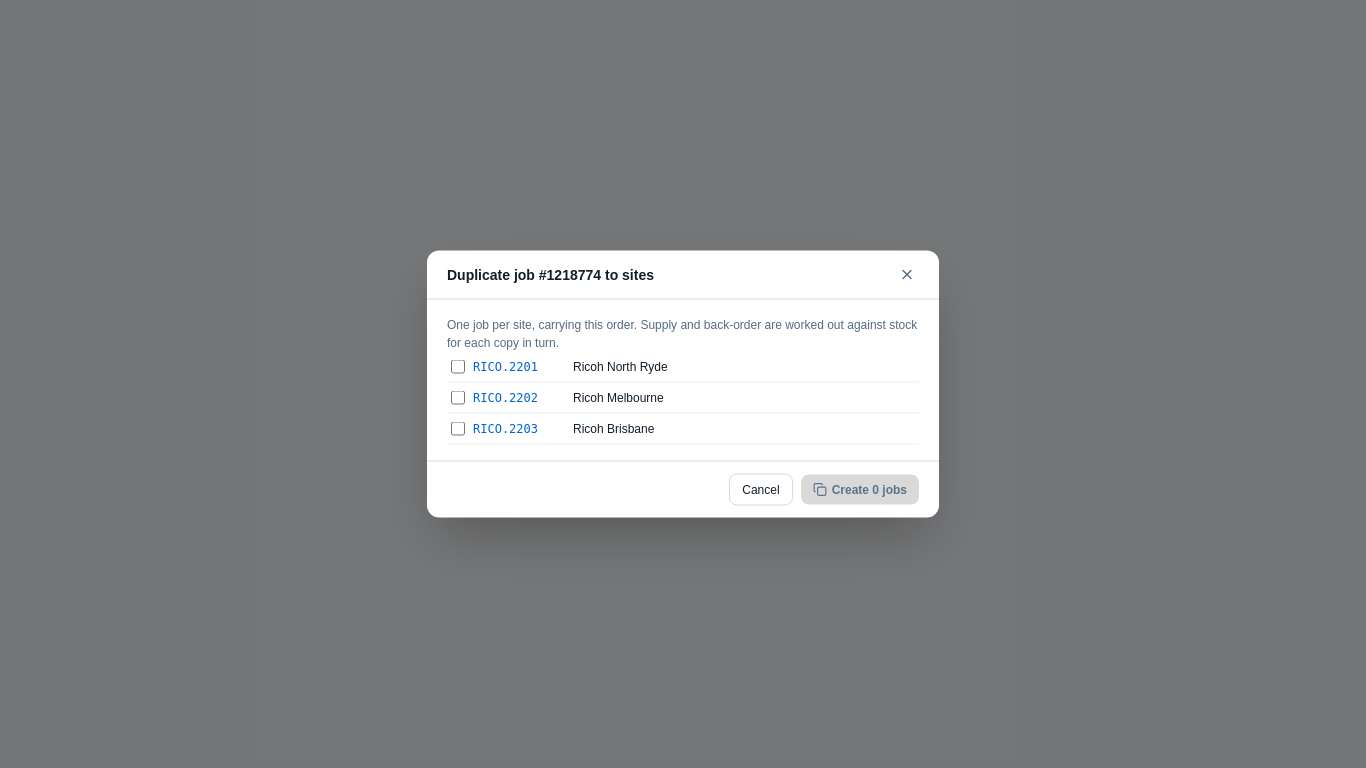
it: one site failing does not stop the rest
The width and height of the screenshot is (1366, 768).
Check: the text "RICO.2201" is shown, box top-left (473, 360), bottom-right (538, 374)
Click the checkbox labelled "RICO.2201 Ricoh North Ryde" at (458, 366), box top-left (451, 360), bottom-right (465, 374)
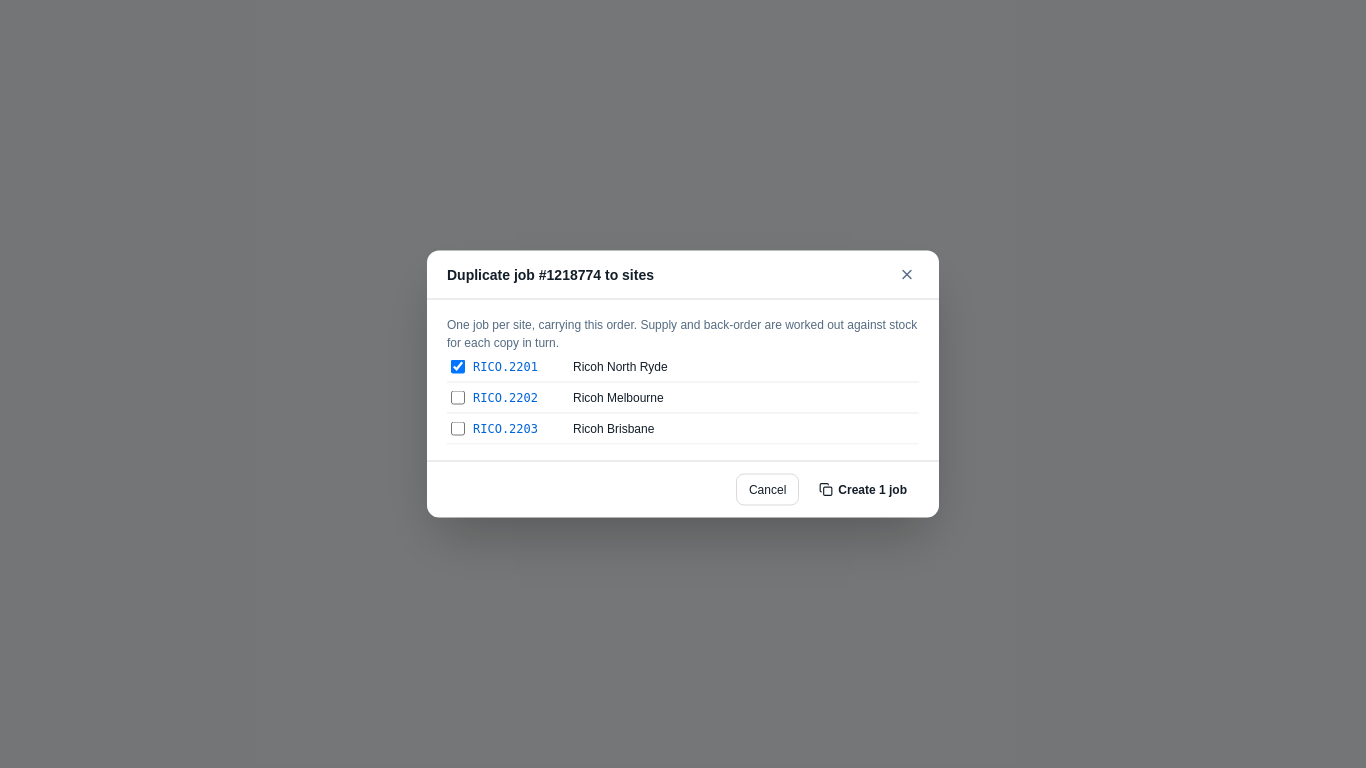
Click the checkbox labelled "RICO.2202 Ricoh Melbourne" at (458, 398), box top-left (451, 390), bottom-right (465, 404)
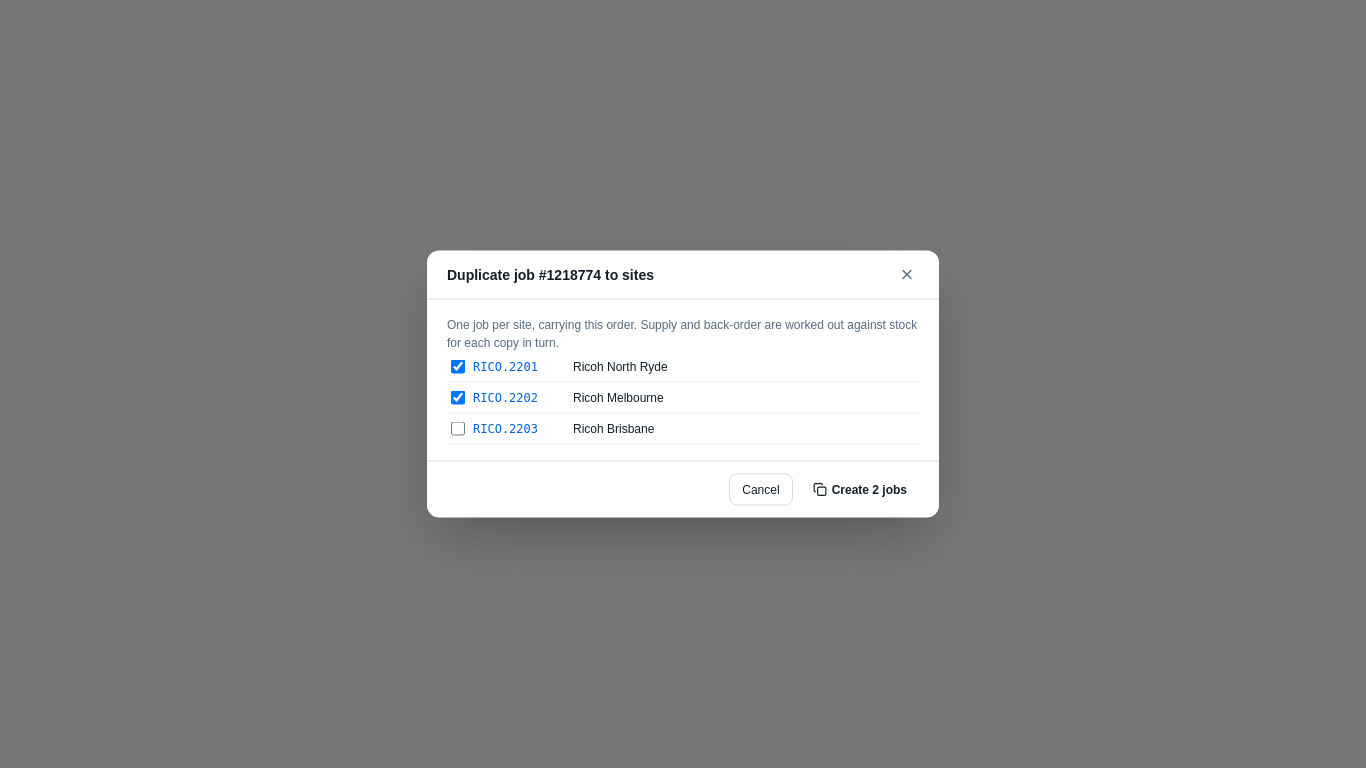
Click the checkbox labelled "RICO.2203 Ricoh Brisbane" at (458, 428), box top-left (451, 422), bottom-right (465, 436)
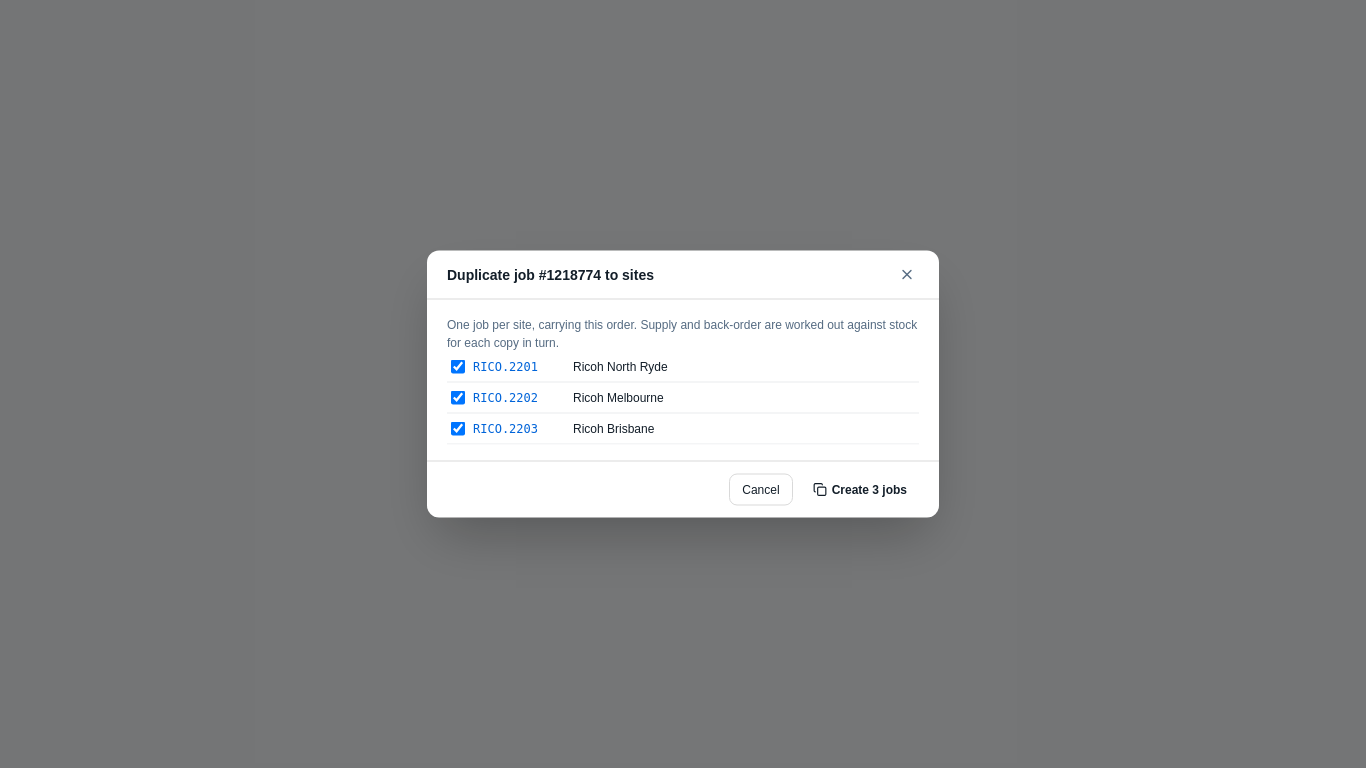
Click the button "Create 3 jobs" at (860, 490), box top-left (801, 474), bottom-right (919, 504)
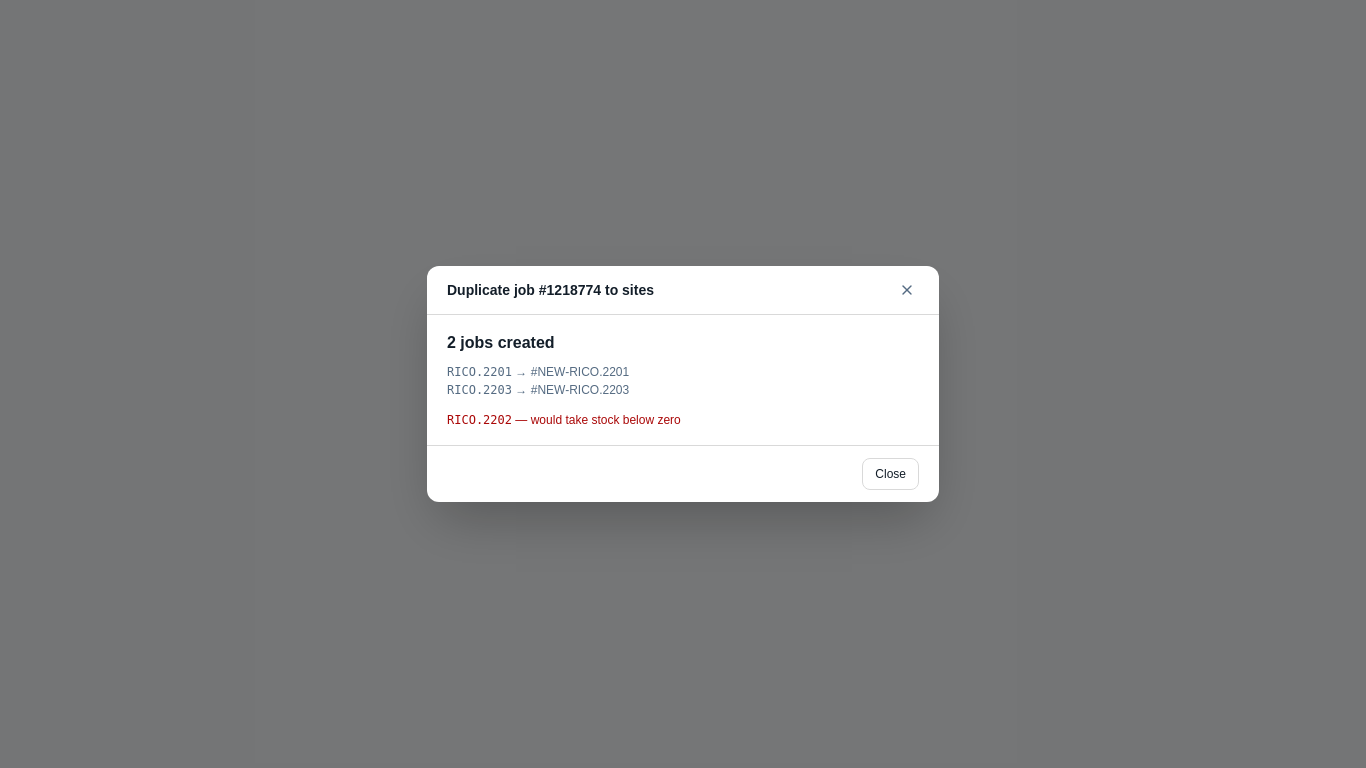
Check: the text "2 jobs created" is shown, box top-left (447, 334), bottom-right (555, 351)
Check: the text "RICO.2202 — would take stock below zero" is shown, box top-left (447, 413), bottom-right (681, 427)
